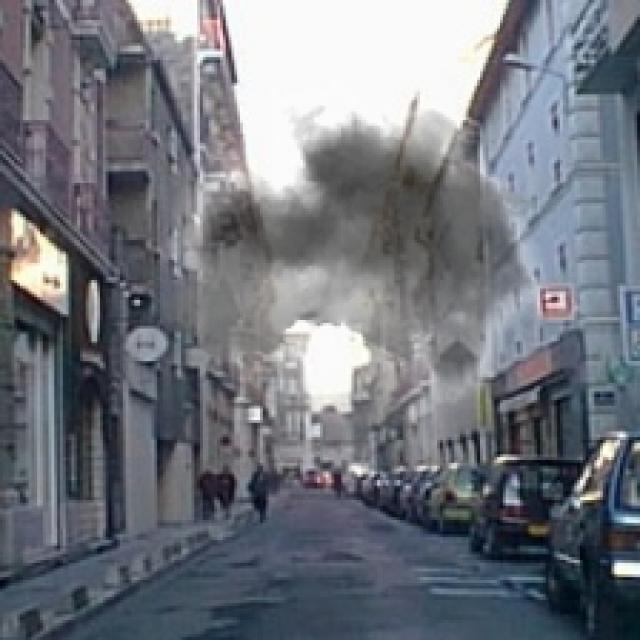Smoke: (157, 54, 569, 469)
